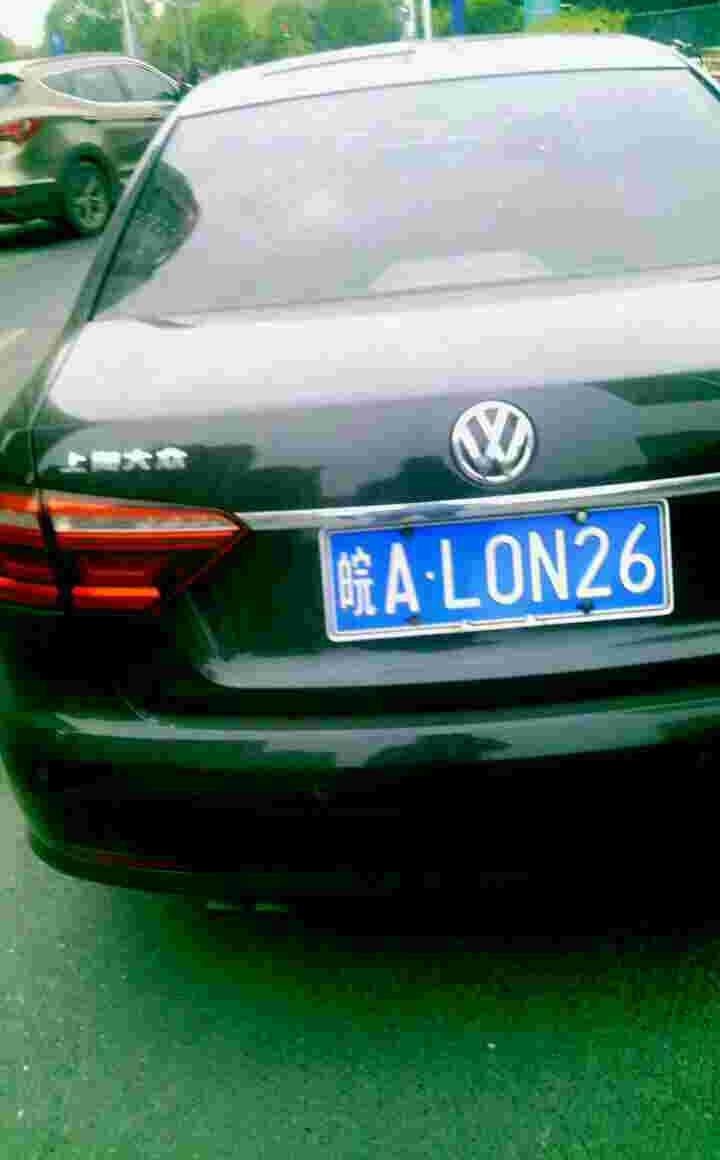license_plate: (323, 507, 656, 644)
